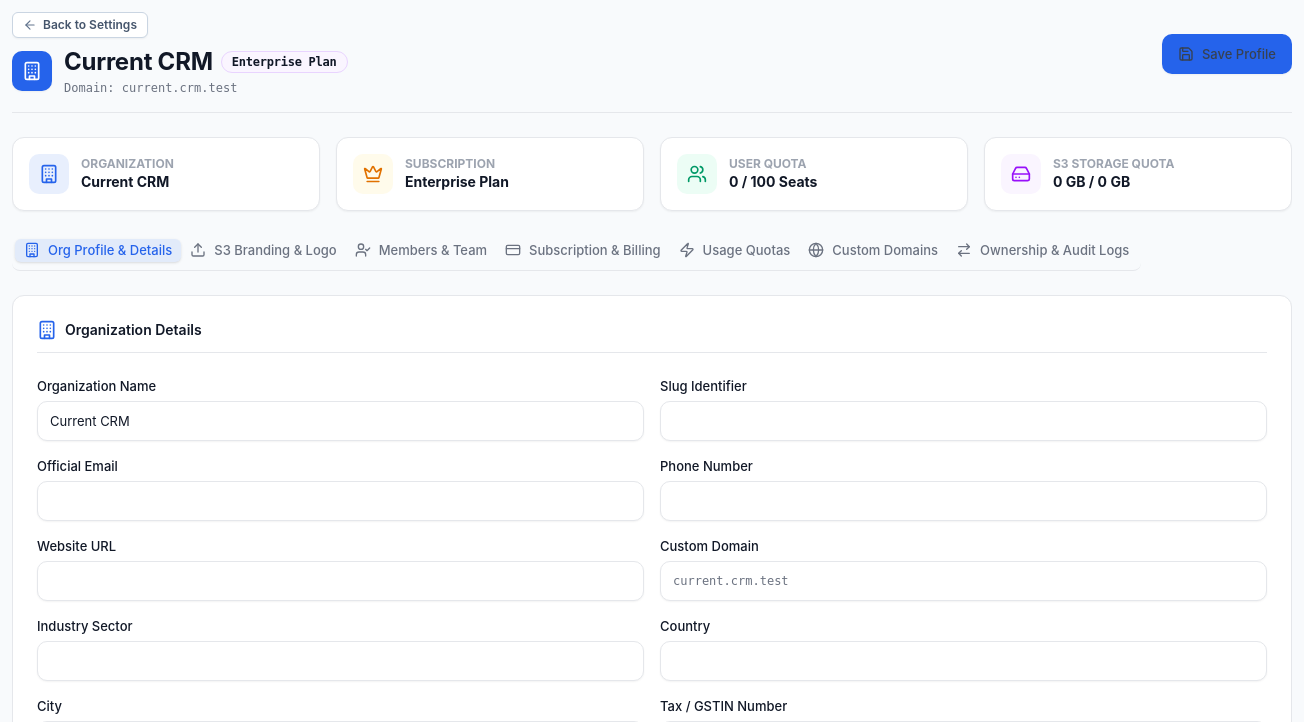
Test: Organization detail route and current organization mode › renders truthful billing status: {"plan":"Enterprise","status":"active","provider_linked":false,"auto_renew":true,"amount":0,"currency":"INR","billing_cycle":"M
Press the mouse on the tab "Subscription & Billing" at (583, 250), box top-left (496, 238), bottom-right (670, 262)
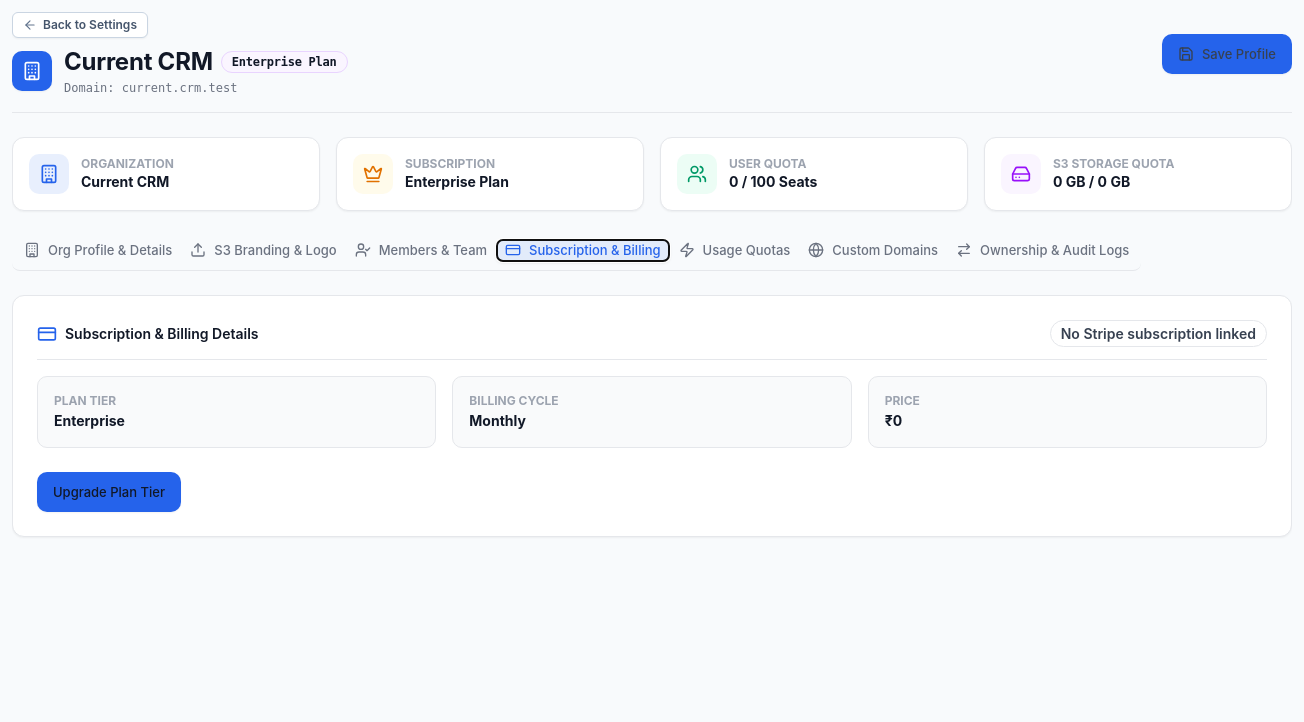
Expected: the text "No Stripe subscription linked" is shown, top-left (1050, 320), bottom-right (1267, 347)
